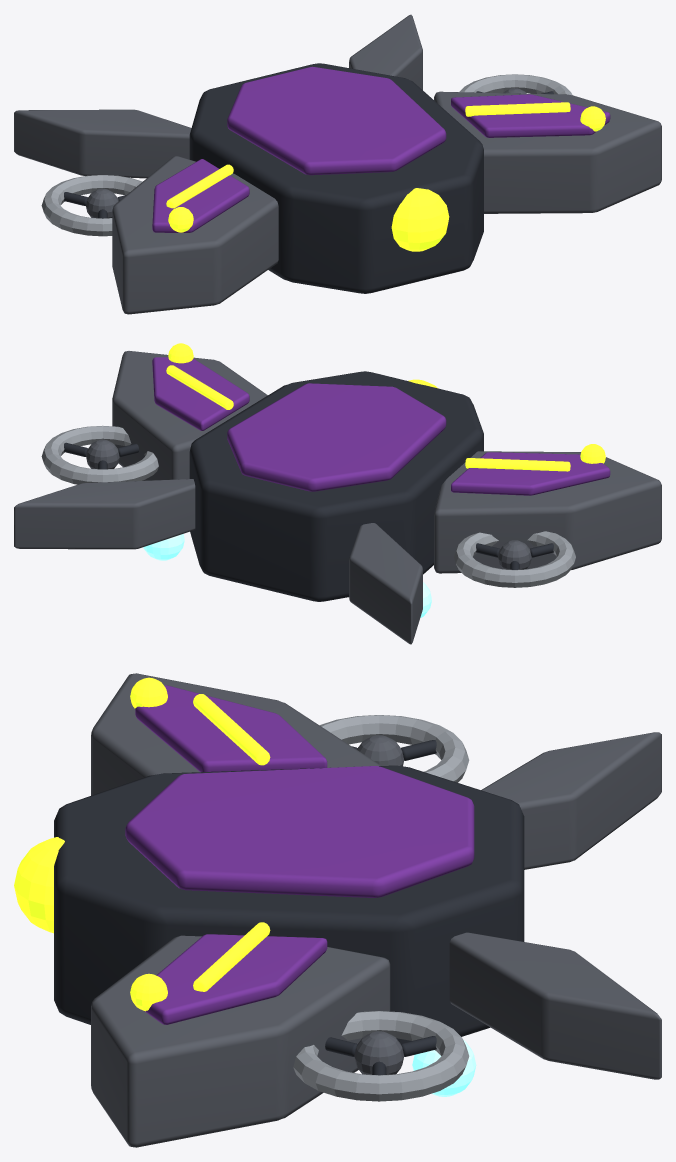
The model's file is aegis_drone_l01.glb.
3 renders of one model, top to bottom at view 1: azimuth 30°, elevation 25°; view 2: azimuth 150°, elevation 25°; view 3: azimuth 270°, elevation 25°, orthographic. The views are drawn at different scales.
Parts seen in each view (by area): view 1: carbon_hull, upper_violet_armour, left_swept_wing, right_swept_wing, left_rear_fin, right_violet_wing_panel, left_violet_wing_panel, right_rear_fin, left_duct, interceptor_eye, right_duct, right_power_conduit (+4 smaller); view 2: carbon_hull, upper_violet_armour, left_swept_wing, right_rear_fin, right_swept_wing, left_rear_fin, left_violet_wing_panel, right_violet_wing_panel, left_duct, right_duct, left_power_conduit, right_power_conduit (+3 smaller); view 3: carbon_hull, upper_violet_armour, right_swept_wing, right_rear_fin, left_rear_fin, left_swept_wing, right_violet_wing_panel, left_violet_wing_panel, right_duct, left_duct, interceptor_eye, right_motor (+6 smaller).
Part boxes in pixels (x1,y1,x2,y2): carbon_hull: (189,63,483,293); upper_violet_armour: (227,66,446,175); left_swept_wing: (112,156,278,314); right_swept_wing: (434,91,661,213); left_rear_fin: (14,109,191,178); right_violet_wing_panel: (451,94,610,137); left_violet_wing_panel: (152,159,249,232); right_rear_fin: (349,14,422,89); left_duct: (41,175,142,236); interceptor_eye: (391,188,449,251); right_duct: (459,74,572,95); right_power_conduit: (465,102,570,116); carbon_hull: (189,371,483,601); upper_violet_armour: (227,383,446,491); left_swept_wing: (434,451,661,573); right_rear_fin: (14,479,195,549); right_swept_wing: (112,351,267,480); left_rear_fin: (349,523,422,644); left_violet_wing_panel: (451,452,610,495); right_violet_wing_panel: (152,357,249,430); left_duct: (454,531,575,587); right_duct: (41,425,158,484); left_power_conduit: (465,458,570,471); right_power_conduit: (166,365,233,409); carbon_hull: (54,765,524,1043); upper_violet_armour: (125,766,474,897); right_swept_wing: (91,935,390,1147); right_rear_fin: (449,932,661,1079); left_rear_fin: (481,732,661,869); left_swept_wing: (91,673,380,795); right_violet_wing_panel: (144,934,327,1024); left_violet_wing_panel: (135,685,327,772); right_duct: (293,1011,469,1101); left_duct: (319,715,469,782); interceptor_eye: (14,837,64,933); right_motor: (354,1031,404,1074).
Bounding box in the file's own units: 0.9128 × 0.202 × 0.6475.
